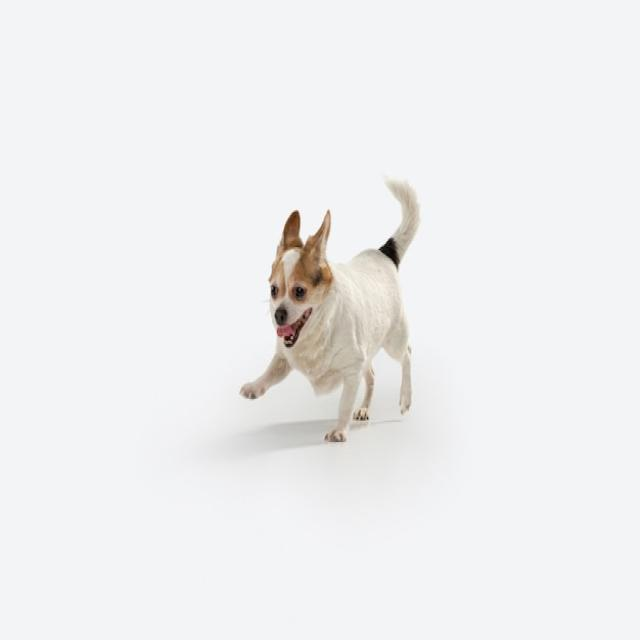Dog: (240, 177, 422, 441)
